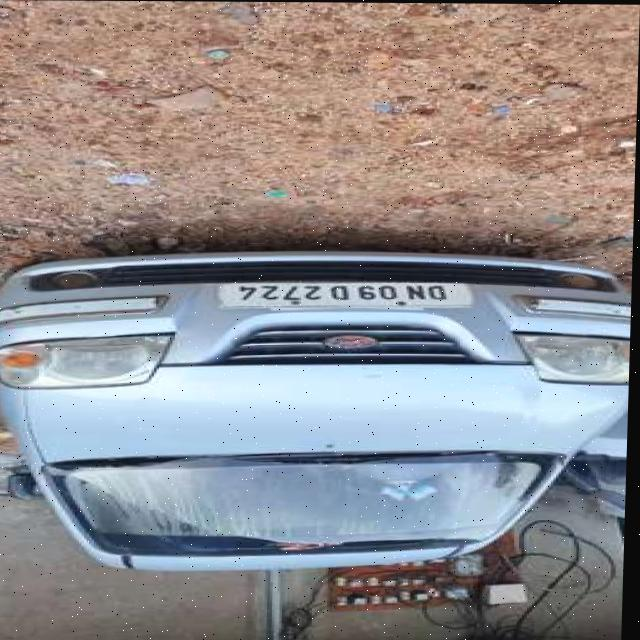plate: (223, 281, 476, 310)
